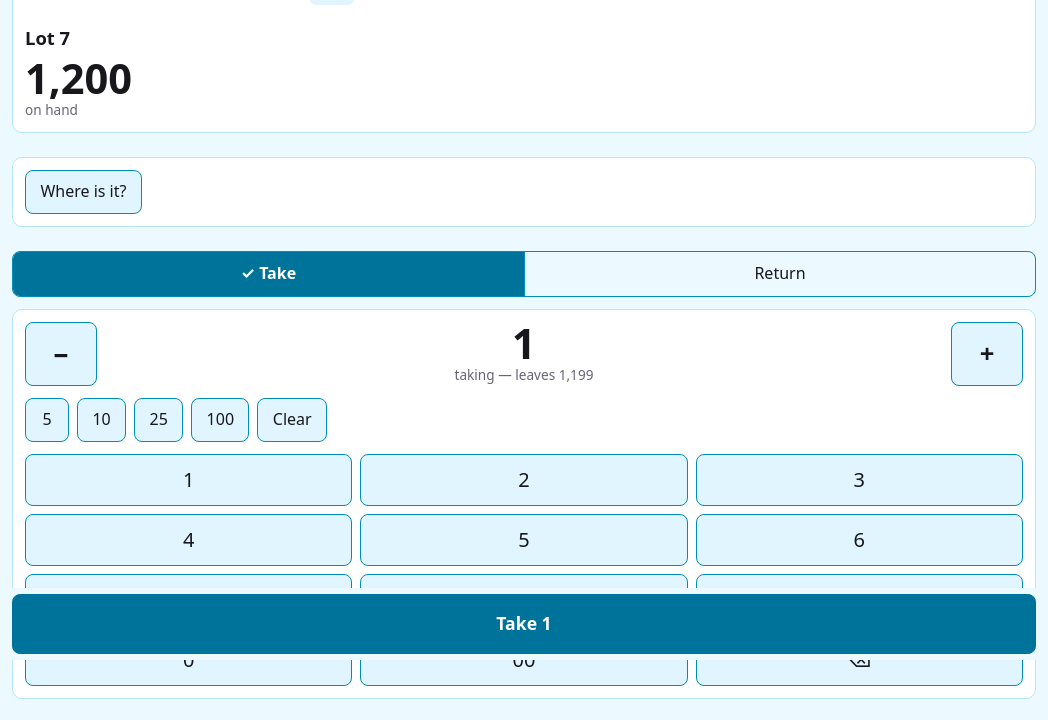
Scenario: take / return › surfaces a refusal without claiming the movement happened
The image size is (1048, 720).
Click the button "Take 1": (524, 624) [12,594,1036,654]
(page scrolled)
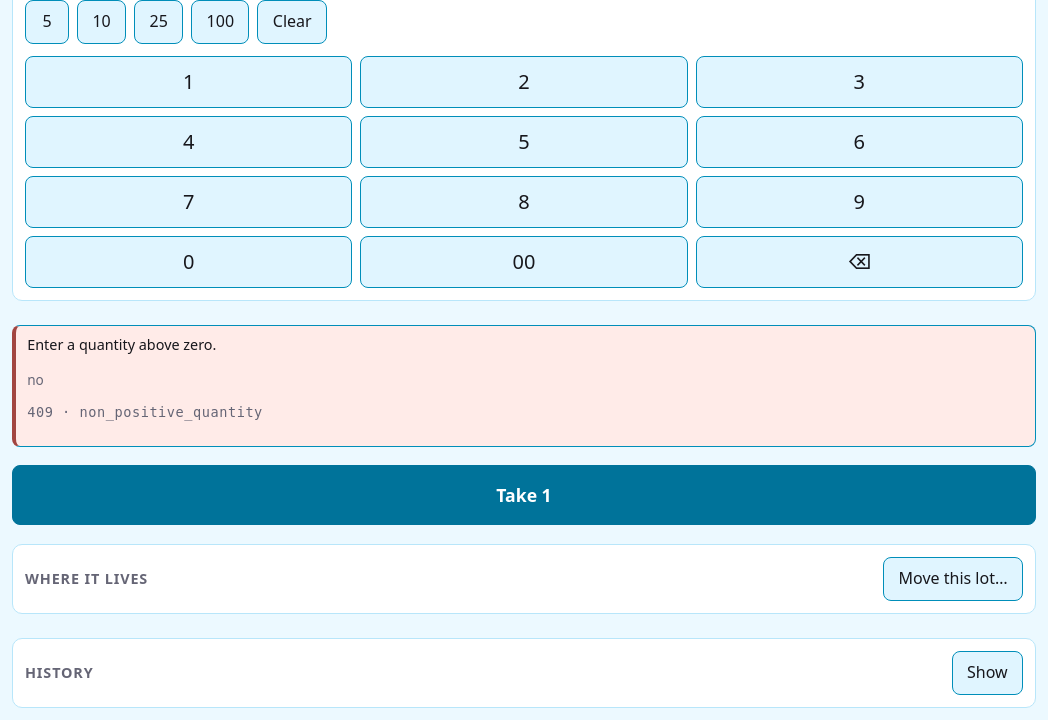
Now the text "Enter a quantity above zero." is shown, box [27,335,216,354]
